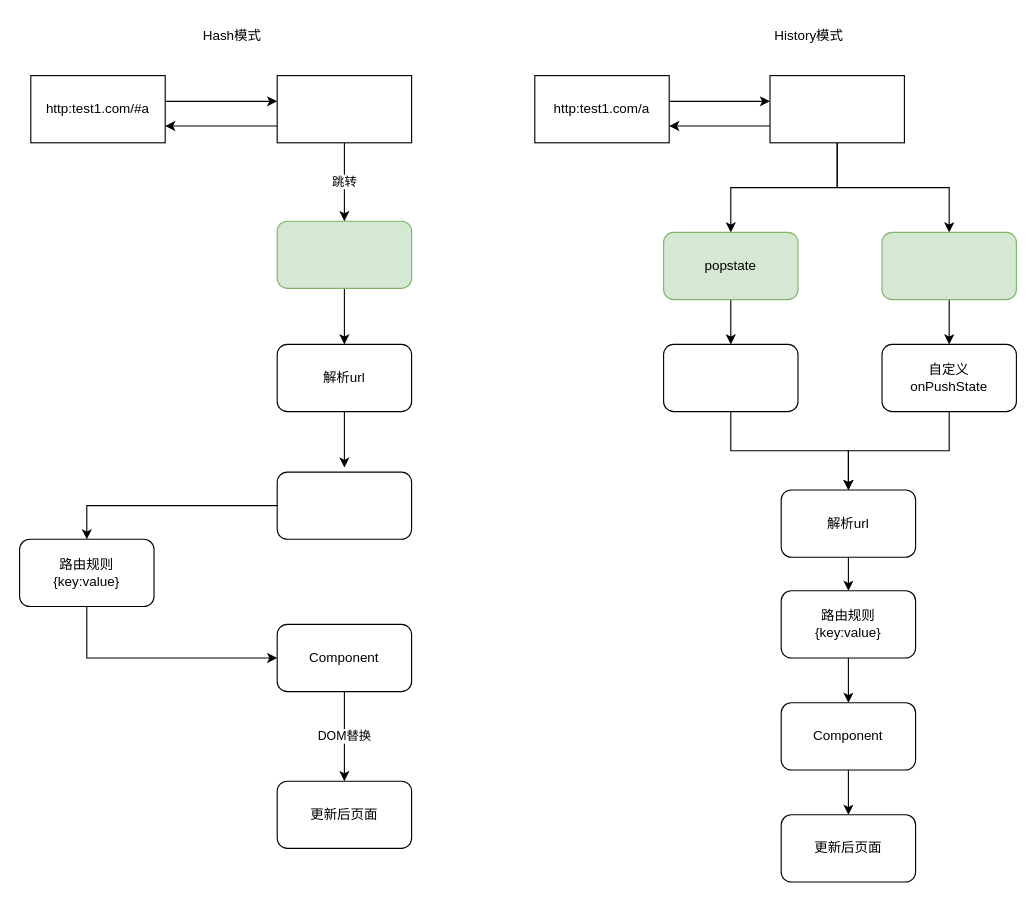
Image size: 1036x902. Some labels were removed from this diagram. Here are the shapes that lost their labels. From the top down, the centre of each, then its label:
At point (344, 108): "http:test1.com/#b".
At point (836, 108): "http:test1.com/b".
At point (344, 254): "hashchange".
At point (948, 265): "pushState".
At point (730, 377): "onPopState".
At point (344, 505): "路由地址key".
